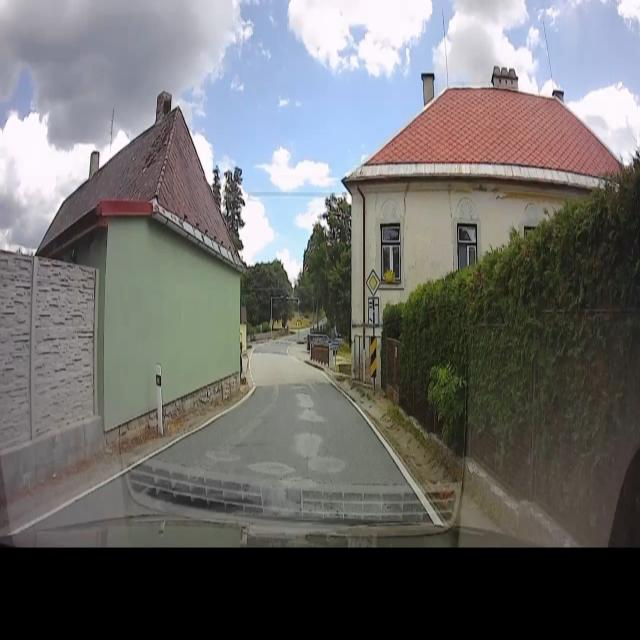Pedestrian crosswalk: (296, 318, 303, 328)
